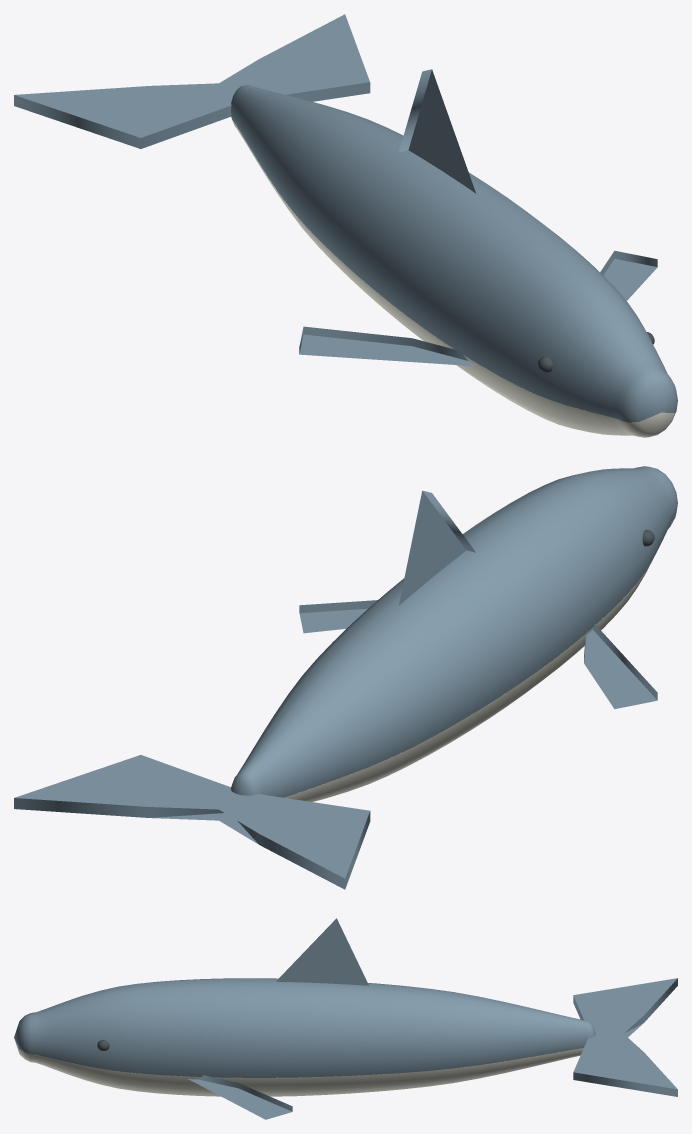
Rendered from open-ocean-and-deep-sea-life-harbour-porpoise-52f8c317__5896.glb.
3 renders of one model, top to bottom at view 1: azimuth 30°, elevation 25°; view 2: azimuth 150°, elevation 25°; view 3: azimuth 270°, elevation 25°, orthographic. The views are drawn at different scales.
Parts seen in each view (by area): view 1: harbour-porpoise; view 2: harbour-porpoise; view 3: harbour-porpoise.
Part boxes in pixels (left/top/right/bottom): harbour-porpoise: left=14, top=14, right=677, bottom=437; harbour-porpoise: left=14, top=466, right=677, bottom=889; harbour-porpoise: left=14, top=918, right=677, bottom=1119.
Size of the model in its own units: 0.6872 by 0.4584 by 1.6.
